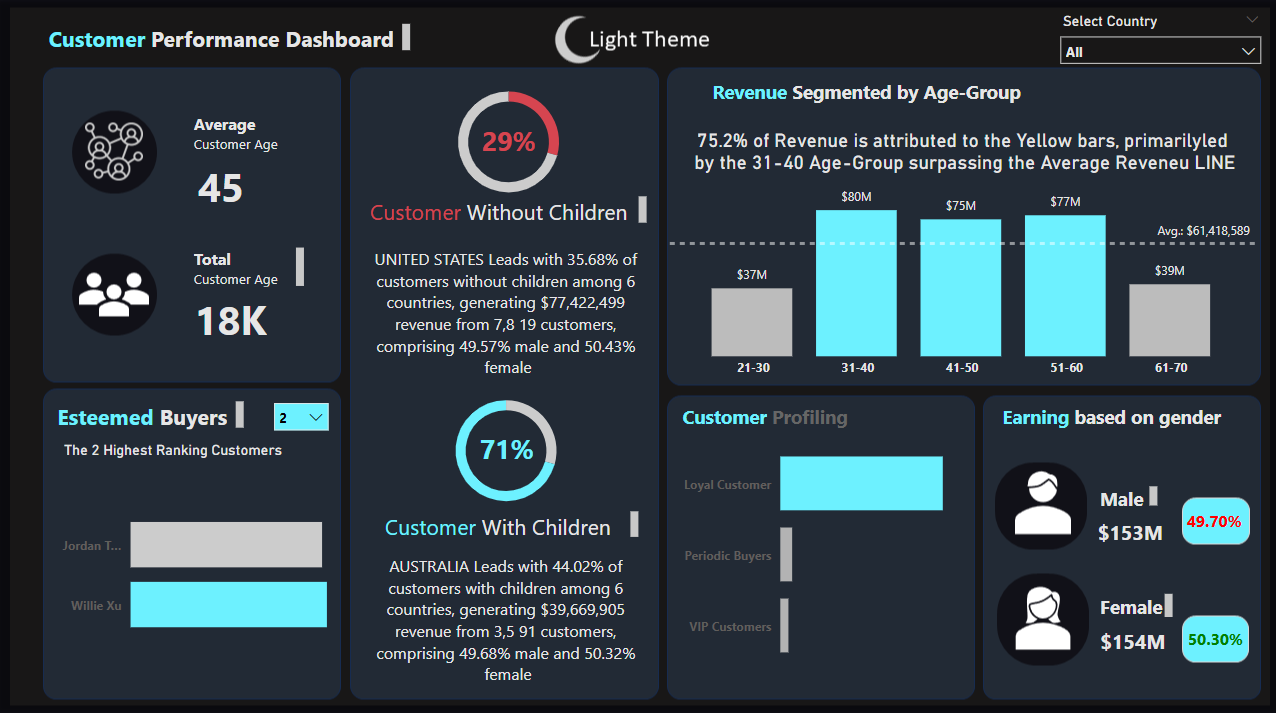

The dashboard page shown, as its layout file describes it:
{"tool":"powerbi","page":{"name":"Page 2","canvas":[1280,720],"ordinal":1},"visuals":[{"type":"card","fields":{"Values":["Customer measures.Avg Caption"]},"box":[665,110,600,85],"z":0},{"type":"textbox","box":[707.5,75,332.5,37.5],"z":1000},{"type":"donutChart","fields":{"Y":["Customer measures.% C without children","Customer measures.% CWC"]},"box":[417.5,75,182.5,136.2],"z":2000},{"type":"donutChart","fields":{"Y":["Customer measures.% C without children","Customer measures.% CWC"]},"box":[415,383.8,182.5,136.2],"z":3000},{"type":"card","fields":{"Values":["Customer measures.% C without children"]},"box":[476.2,110,65,66.2],"z":4000},{"type":"card","fields":{"Values":["Customer measures.% CWC"]},"box":[473.8,420,66.2,62.5],"z":5000},{"type":"textbox","box":[365,192.5,286.2,37.5],"z":6000},{"type":"textbox","box":[380.3,507.8,263.4,37],"z":7000},{"type":"card","fields":{"Values":["Customer measures.Caption Customer With Children"]},"box":[356.2,528.8,303.8,161.2],"z":8000},{"type":"card","fields":{"Values":["Customer measures.Caption Customer With Children"]},"box":[356.2,225,303.8,155],"z":9000},{"type":"clusteredBarChart","fields":{"Category":["DimCustomer.Customer Type"],"Y":["All measures.Total Revenue"]},"box":[677.5,416.2,286.2,273.8],"z":10000},{"type":"clusteredBarChart","fields":{"Category":["DimCustomer.FullName"],"Y":["Customer measures.Dynamic customers"]},"box":[44.1,456.5,294.4,233.6],"z":11000},{"type":"slicer","fields":{"Values":["Dynamic Customers.Dynamic Customers"]},"box":[263.8,393.8,75,51.2],"z":12000},{"type":"card","fields":{"Values":["Customer measures.% Male"]},"box":[1180,496.2,68.8,55],"z":13000},{"type":"card","fields":{"Values":["Customer measures.% Female"]},"box":[1177.5,623.8,76.2,36.2],"z":14000},{"type":"card","fields":{"Values":["Customer measures.Average Customer Age"]},"box":[191.2,162.5,60,48.8],"z":15000},{"type":"card","fields":{"Values":["Customer measures.#Customers"]},"box":[188.8,292.5,83.8,56.2],"z":16000},{"type":"textbox","box":[188.8,108.8,133.8,53.8],"z":17000},{"type":"textbox","box":[188.8,243.8,120,48.8],"z":18000},{"type":"textbox","box":[1095,590,82.5,33.8],"z":19000},{"type":"textbox","box":[1095,482.5,67.5,31.2],"z":20000},{"type":"textbox","box":[52.5,397.5,196.2,37.5],"z":21000},{"type":"card","fields":{"Values":["Customer measures.Title top Customers"]},"box":[52.5,427.5,241.2,48.8],"z":22000},{"type":"textbox","box":[997.5,400,246.2,35],"z":23000},{"type":"card","fields":{"Values":["Customer measures.Male Revenue"]},"box":[1091.2,520,78.8,31.2],"z":24000},{"type":"card","fields":{"Values":["Customer measures.Female Revenue"]},"box":[1095,628.8,76.2,31.2],"z":25000},{"type":"textbox","box":[43.8,20,371.2,37.5],"z":26000},{"type":"slicer","fields":{"Values":["DimGeography.Country"]},"box":[1050,8.8,221.2,61.2],"z":27000},{"type":"textbox","box":[677.5,400,196.2,37.5],"z":28000},{"type":"clusteredColumnChart","fields":{"Category":["DimCustomer.Age Categories"],"Y":["All measures.Total Revenue"]},"box":[665,176.2,595,211.2],"z":29000},{"type":"actionButton","box":[541.2,8.8,197.5,61.2],"z":30000}]}

Visuals, with their boxes in screenshot pixels (x1, y1, x2, y2), scaled from the page's 1280x720 canvas onto the 1276x713 screenshot:
card - Customer measures.Avg Caption: pyautogui.locateOnScreen(663, 109, 1261, 193)
textbox: pyautogui.locateOnScreen(705, 74, 1037, 111)
donutChart - Customer measures.% C without children x Customer measures.% CWC: pyautogui.locateOnScreen(416, 74, 598, 209)
donutChart - Customer measures.% C without children x Customer measures.% CWC: pyautogui.locateOnScreen(414, 380, 596, 515)
card - Customer measures.% C without children: pyautogui.locateOnScreen(475, 109, 540, 174)
card - Customer measures.% CWC: pyautogui.locateOnScreen(472, 416, 538, 478)
textbox: pyautogui.locateOnScreen(364, 191, 649, 228)
textbox: pyautogui.locateOnScreen(379, 503, 642, 540)
card - Customer measures.Caption Customer With Children: pyautogui.locateOnScreen(355, 524, 658, 683)
card - Customer measures.Caption Customer With Children: pyautogui.locateOnScreen(355, 223, 658, 376)
clusteredBarChart - DimCustomer.Customer Type x All measures.Total Revenue: pyautogui.locateOnScreen(675, 412, 961, 683)
clusteredBarChart - DimCustomer.FullName x Customer measures.Dynamic customers: pyautogui.locateOnScreen(44, 452, 337, 683)
slicer - Dynamic Customers.Dynamic Customers: pyautogui.locateOnScreen(263, 390, 338, 441)
card - Customer measures.% Male: pyautogui.locateOnScreen(1176, 491, 1245, 546)
card - Customer measures.% Female: pyautogui.locateOnScreen(1174, 618, 1250, 654)
card - Customer measures.Average Customer Age: pyautogui.locateOnScreen(191, 161, 250, 209)
card - Customer measures.#Customers: pyautogui.locateOnScreen(188, 290, 272, 345)
textbox: pyautogui.locateOnScreen(188, 108, 322, 161)
textbox: pyautogui.locateOnScreen(188, 241, 308, 290)
textbox: pyautogui.locateOnScreen(1092, 584, 1174, 618)
textbox: pyautogui.locateOnScreen(1092, 478, 1159, 509)
textbox: pyautogui.locateOnScreen(52, 394, 248, 431)
card - Customer measures.Title top Customers: pyautogui.locateOnScreen(52, 423, 293, 472)
textbox: pyautogui.locateOnScreen(994, 396, 1240, 431)
card - Customer measures.Male Revenue: pyautogui.locateOnScreen(1088, 515, 1166, 546)
card - Customer measures.Female Revenue: pyautogui.locateOnScreen(1092, 623, 1168, 654)
textbox: pyautogui.locateOnScreen(44, 20, 414, 57)
slicer - DimGeography.Country: pyautogui.locateOnScreen(1047, 9, 1267, 69)
textbox: pyautogui.locateOnScreen(675, 396, 871, 433)
clusteredColumnChart - DimCustomer.Age Categories x All measures.Total Revenue: pyautogui.locateOnScreen(663, 174, 1256, 384)
actionButton: pyautogui.locateOnScreen(540, 9, 736, 69)
